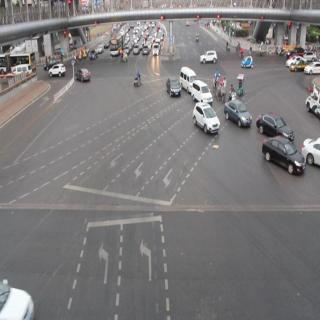Car: (261, 140, 304, 182), (256, 109, 294, 141), (191, 104, 218, 134), (225, 101, 252, 131), (192, 81, 213, 104), (50, 62, 66, 80), (75, 66, 90, 85), (167, 79, 181, 99), (201, 50, 217, 66), (289, 57, 303, 74), (305, 60, 318, 76), (243, 56, 254, 70), (142, 43, 149, 56), (97, 42, 104, 55), (133, 42, 140, 54), (152, 47, 160, 57), (91, 48, 97, 61)
